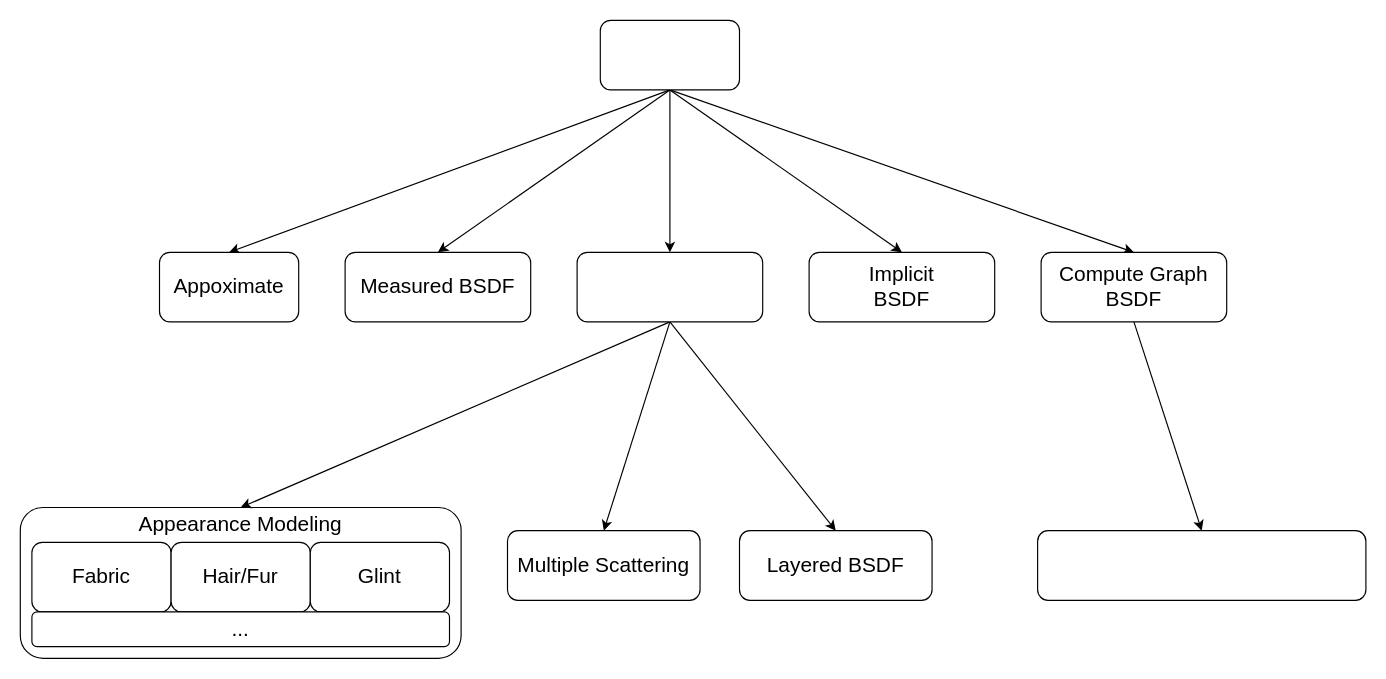
Some shapes in this 1386 by 679 pixel diagram are drawn without their labels. The shapes that lost their labels are listed below. From the top down, each one's centre as x and y in pixels, then its label:
At pixel 669 54: "Material".
At pixel 669 286: "Physics-Based BSDF".
At pixel 1201 565: "Procedural Content Generation".
